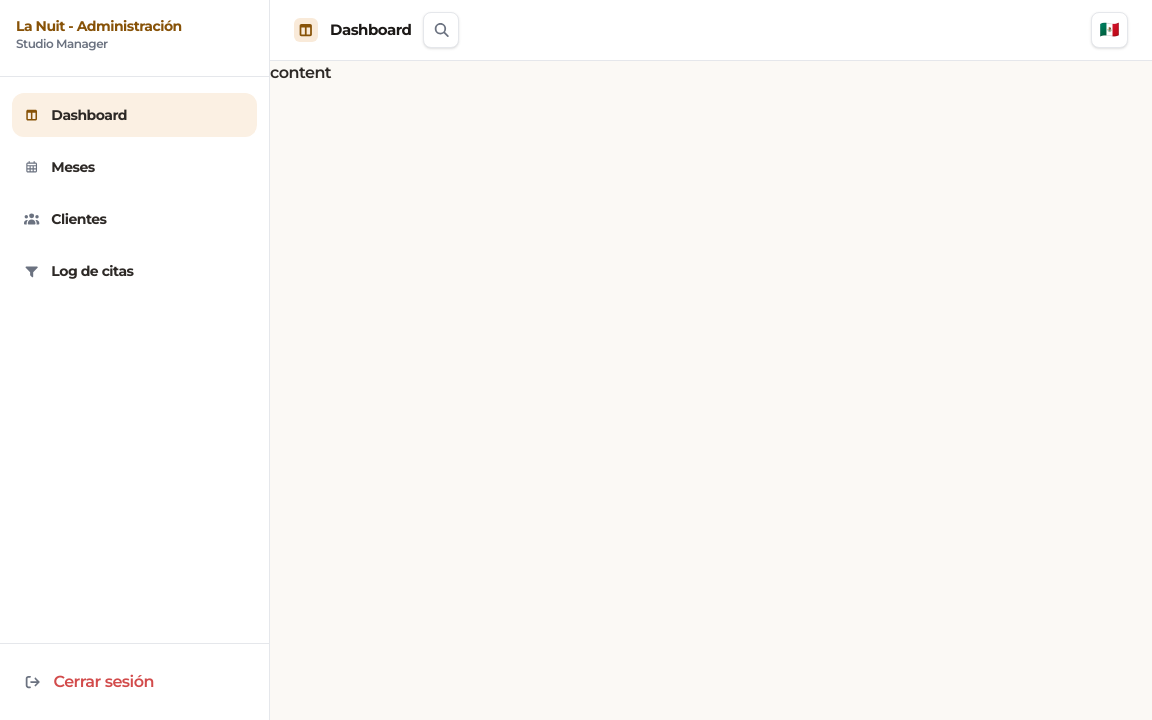
Test: admin layout shell › shows empty state when no clients match
Click the button named "Abrir buscador global".
click(442, 30)  # box [424, 12, 460, 48]
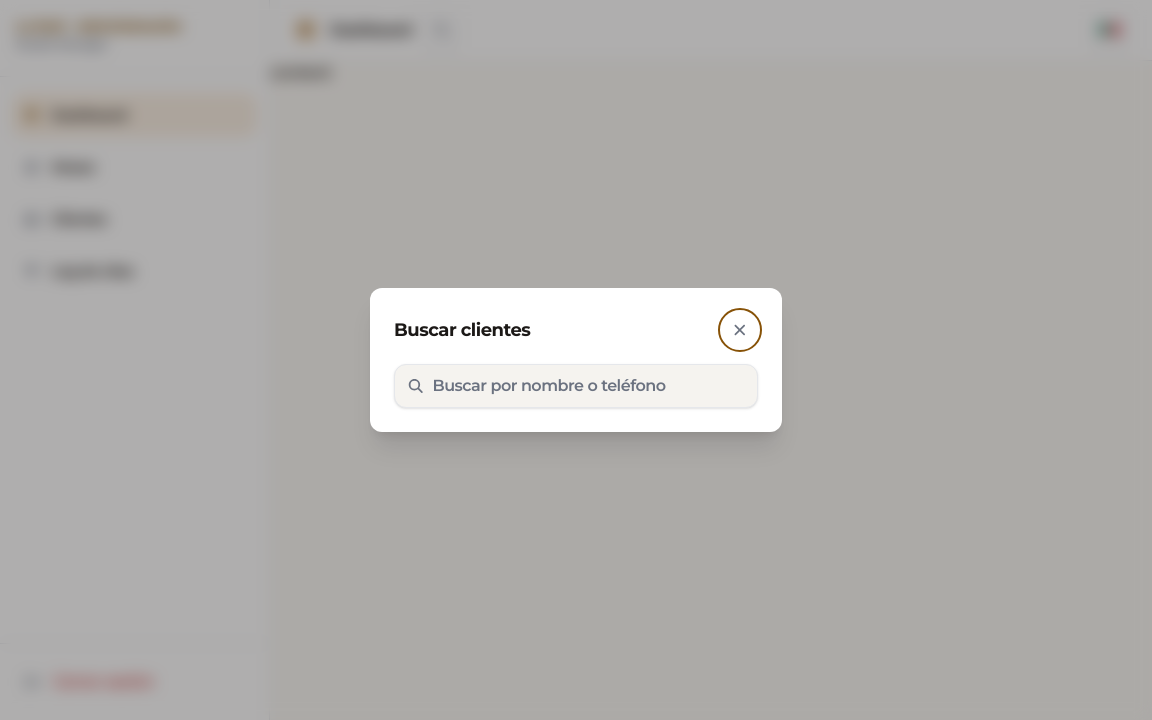
Type "zzz" into the field named "Buscar clientes".
click(589, 386); type("zzz")  # box [432, 374, 745, 398]
Wait 500 ms
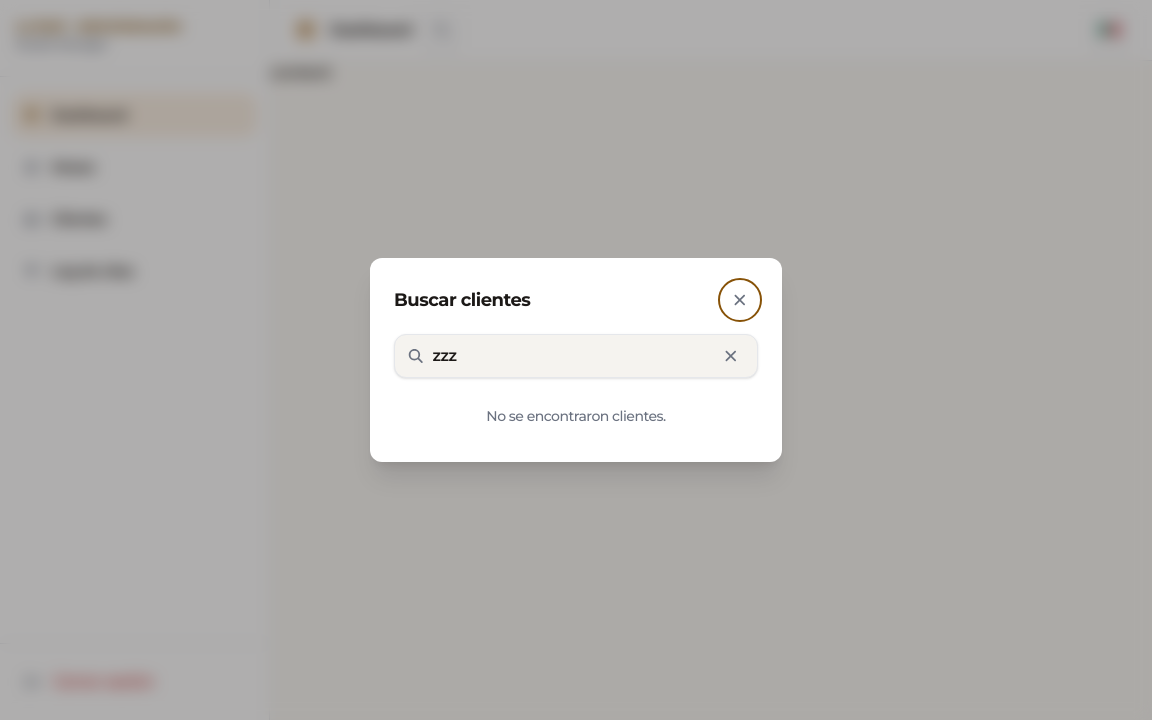
Now the text "No se encontraron clientes." is shown, box [486, 407, 666, 425]
